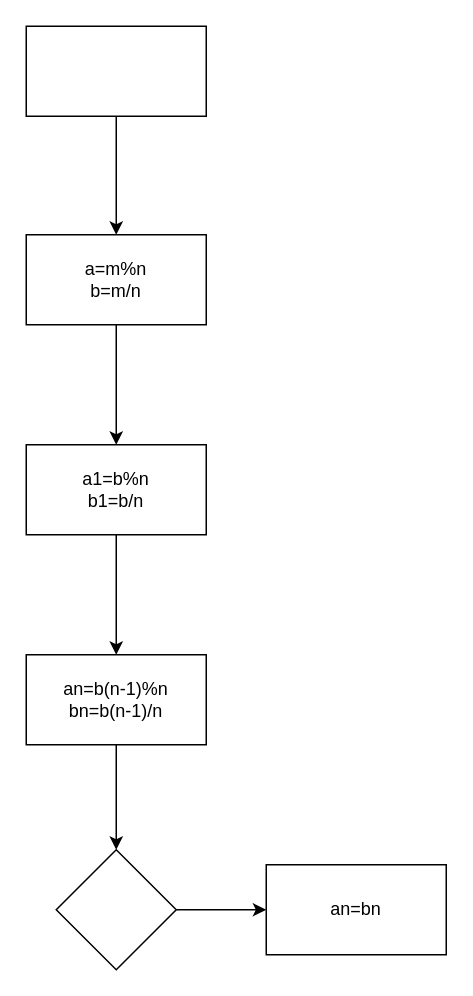
The diagram is 473 pixels wide and 996 high, and some of its shapes have lost their labels. The shapes that lost their labels are listed below. From the top down, each one's centre as x and y in pixels, then its label:
the point at 115,70: m,n
the point at 115,909: bn=0
